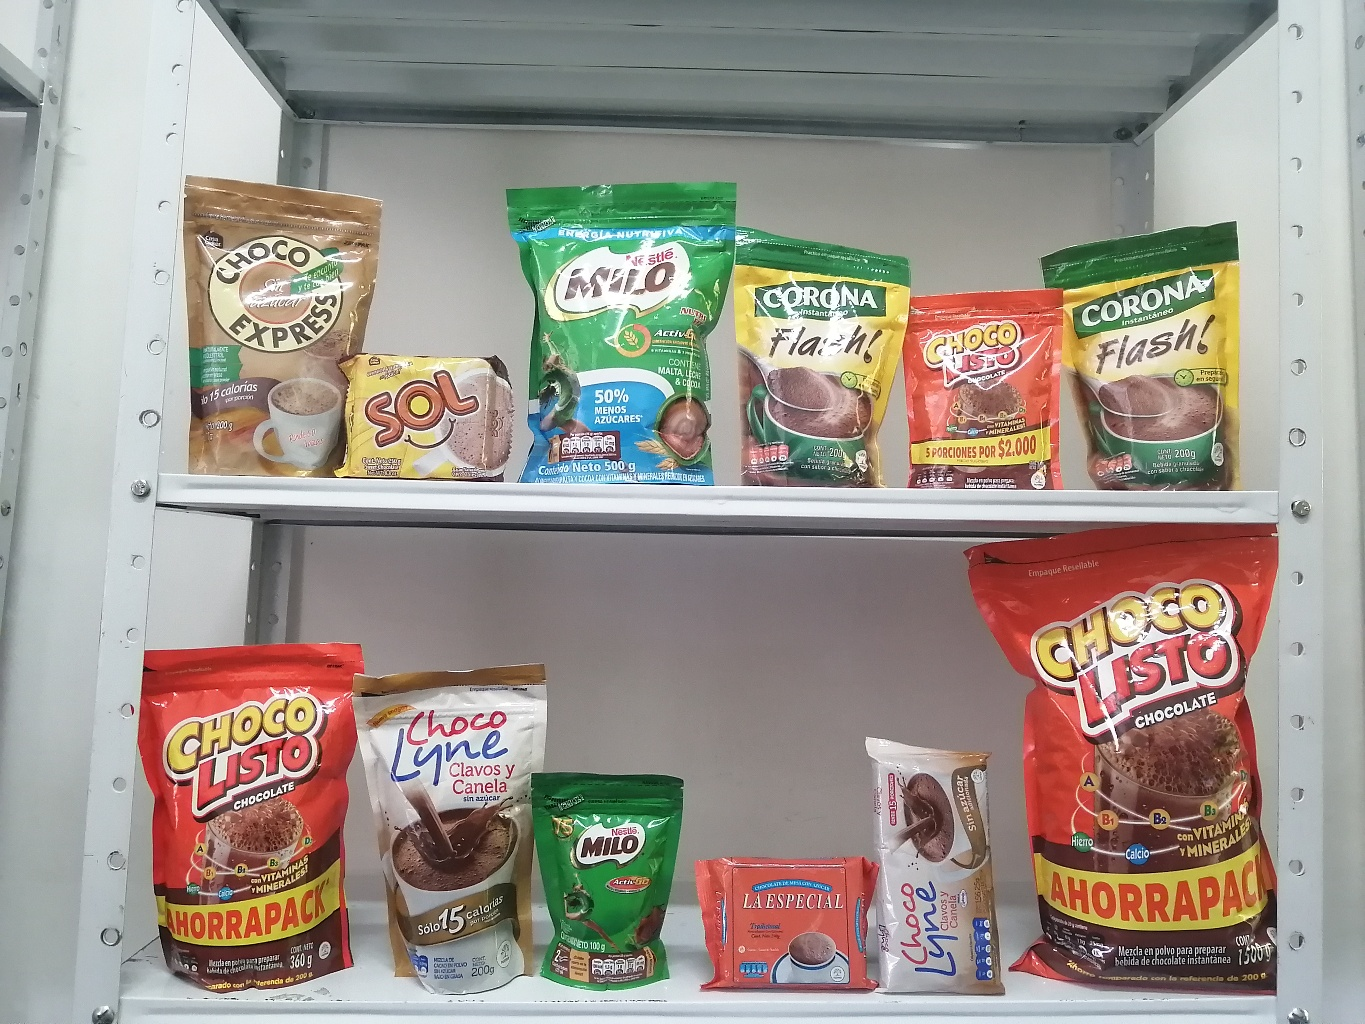COL0170103DYP1,500: (955, 520, 1305, 997)
COL0170103DYP36000: (128, 630, 372, 1002)
COL0170203DYP10000: (509, 743, 686, 1001)
COL0170205DYP50000: (477, 157, 749, 512)
